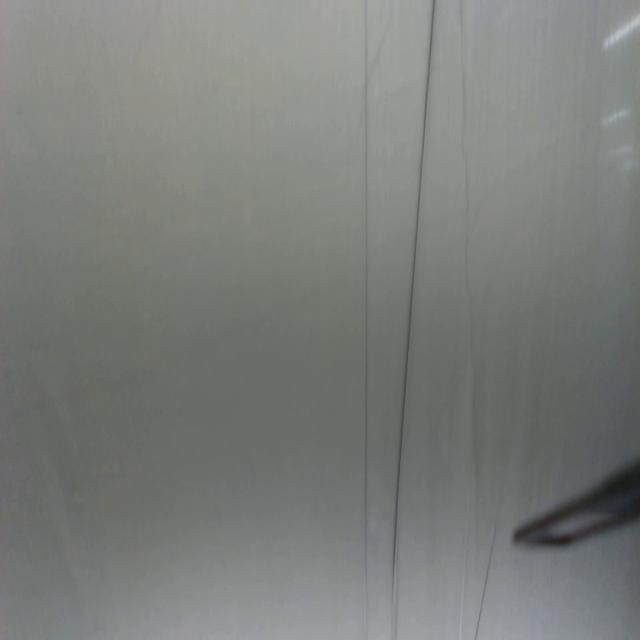crease: (389, 0, 438, 617), (456, 1, 476, 278), (362, 1, 370, 640), (471, 516, 500, 640), (458, 478, 471, 640)
